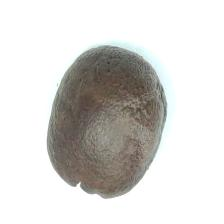NG: (66, 175, 122, 199)
